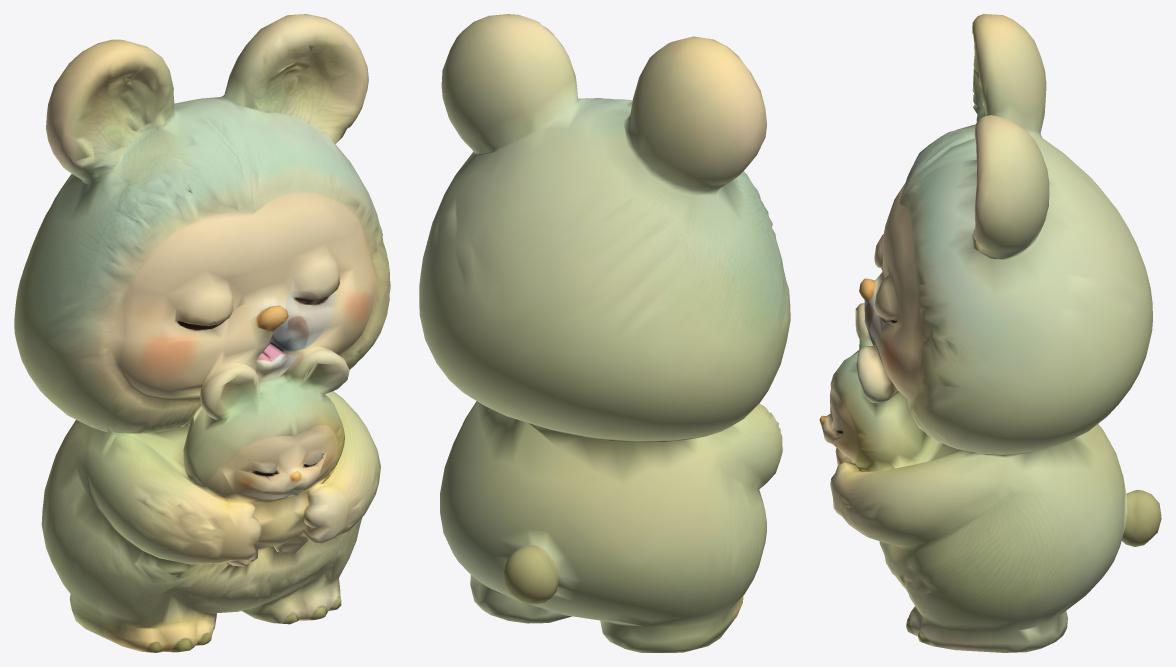
Rendered from 打盹 LADUDU少见.fbx.
3 views of the same model, side by side, from view 1: azimuth 30°, elevation 25°; view 2: azimuth 150°, elevation 25°; view 3: azimuth 270°, elevation 25° (orthographic). The views are drawn at different scales.
Parts seen in each view (by area): view 1: tripo_node_b2efa707; view 2: tripo_node_b2efa707; view 3: tripo_node_b2efa707.
Boxes of the visible parts, left/top/right/bottom form: tripo_node_b2efa707: left=14, top=14, right=390, bottom=652; tripo_node_b2efa707: left=419, top=14, right=790, bottom=652; tripo_node_b2efa707: left=819, top=14, right=1161, bottom=652.
Size of the model in its own units: 0.5983 by 1 by 0.5731.
Materials: 1 (1 with a texture image).
